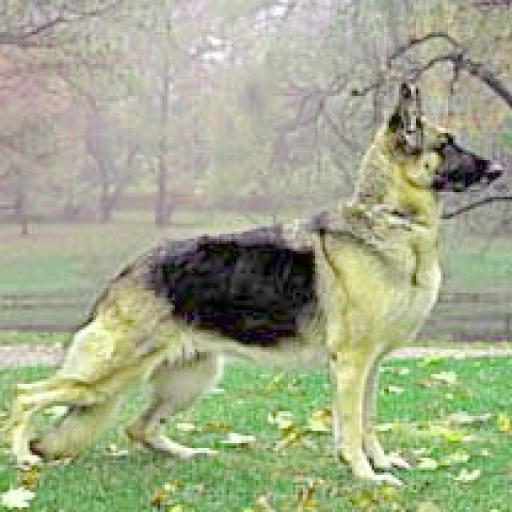dog_face: (385, 95, 506, 203)
